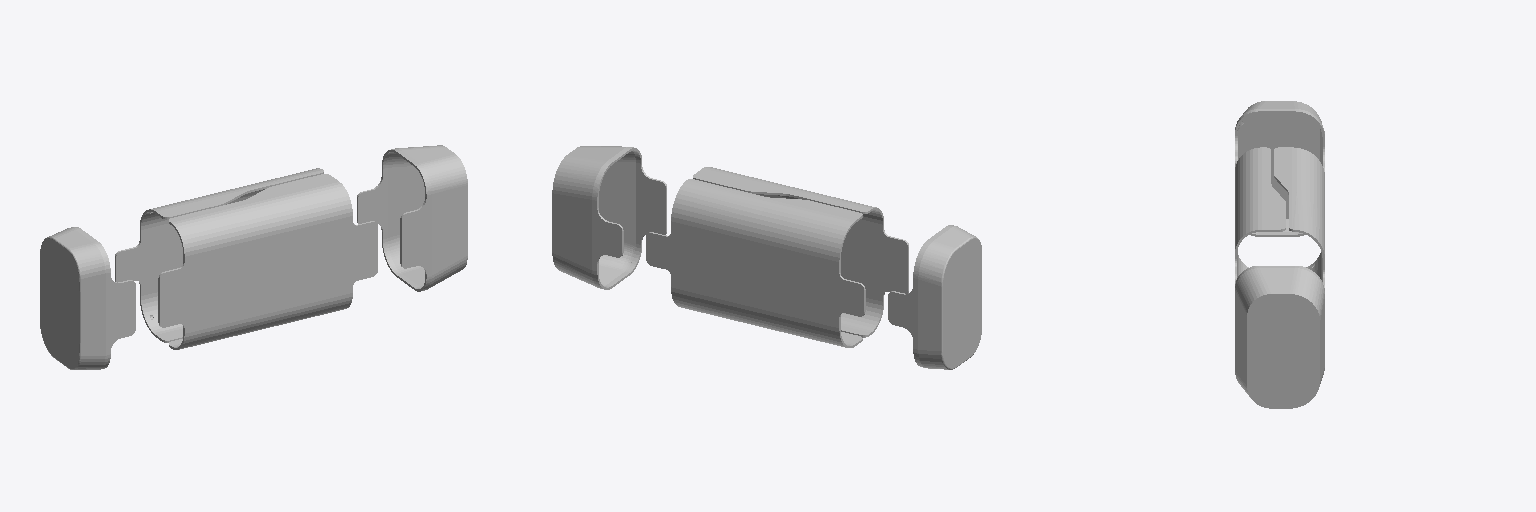
Rendered from shell.obj.
3 renders of one model, left to right at view 1: azimuth 30°, elevation 25°; view 2: azimuth 150°, elevation 25°; view 3: azimuth 270°, elevation 25°, orthographic.
Parts seen in each view (by area): view 1: MeshBody1, 1, 2, Bottom_Cover_Template; view 2: Bottom_Cover_Template, 1, 2, MeshBody1; view 3: 1, 2, Bottom_Cover_Template, MeshBody1.
Part boxes in pixels (x1,y1,x2,y2): MeshBody1: (158, 174, 377, 349); 1: (357, 145, 467, 291); 2: (40, 227, 135, 369); Bottom_Cover_Template: (115, 168, 323, 342); Bottom_Cover_Template: (646, 179, 865, 347); 1: (552, 146, 666, 289); 2: (888, 225, 981, 369); MeshBody1: (693, 167, 908, 337); 1: (1235, 266, 1324, 408); 2: (1235, 101, 1324, 236); Bottom_Cover_Template: (1274, 147, 1324, 287); MeshBody1: (1235, 147, 1285, 283).
Bounding box in the file's own units: 0.3715 × 0.114 × 0.0741.